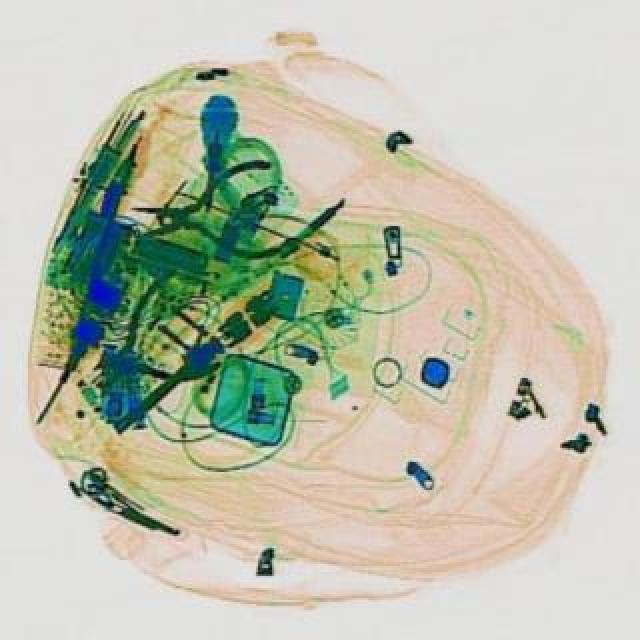wrench: (60, 262, 238, 422), (126, 156, 282, 266)
